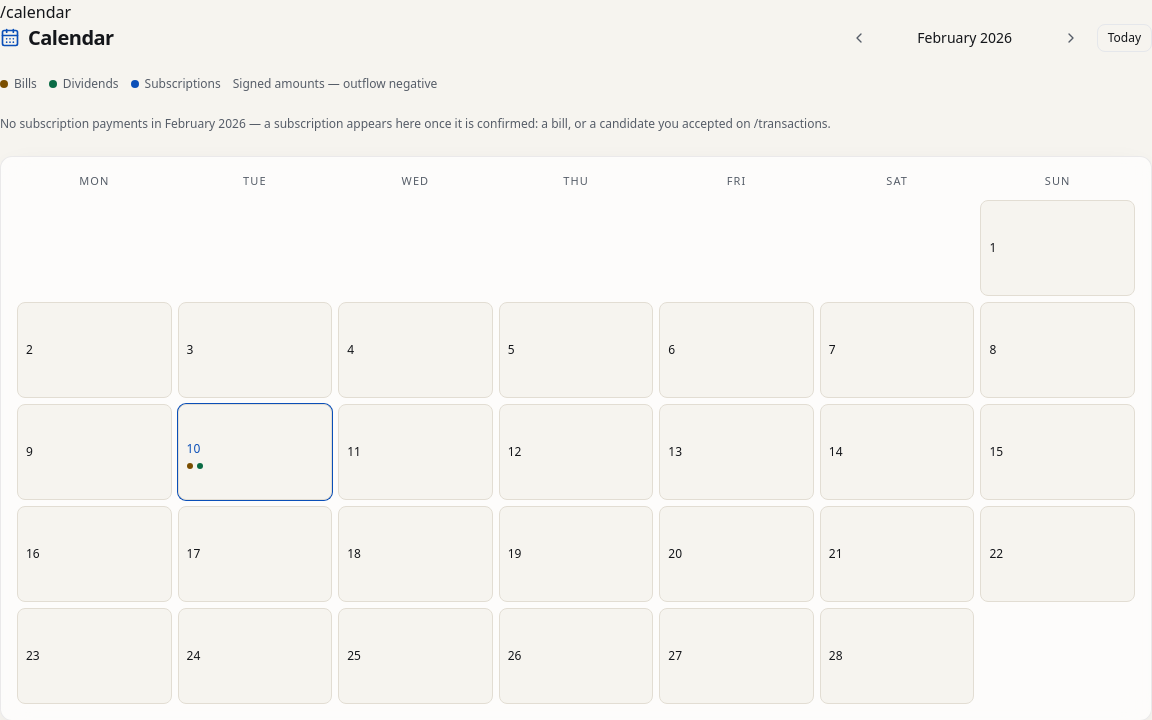
Test: M170 follow-up currency honesty › keeps the CAD bill and dividend controls in CAD
Click the button with test id "calendar-day-2026-02-10".
click(255, 452)  # box [178,404,332,500]
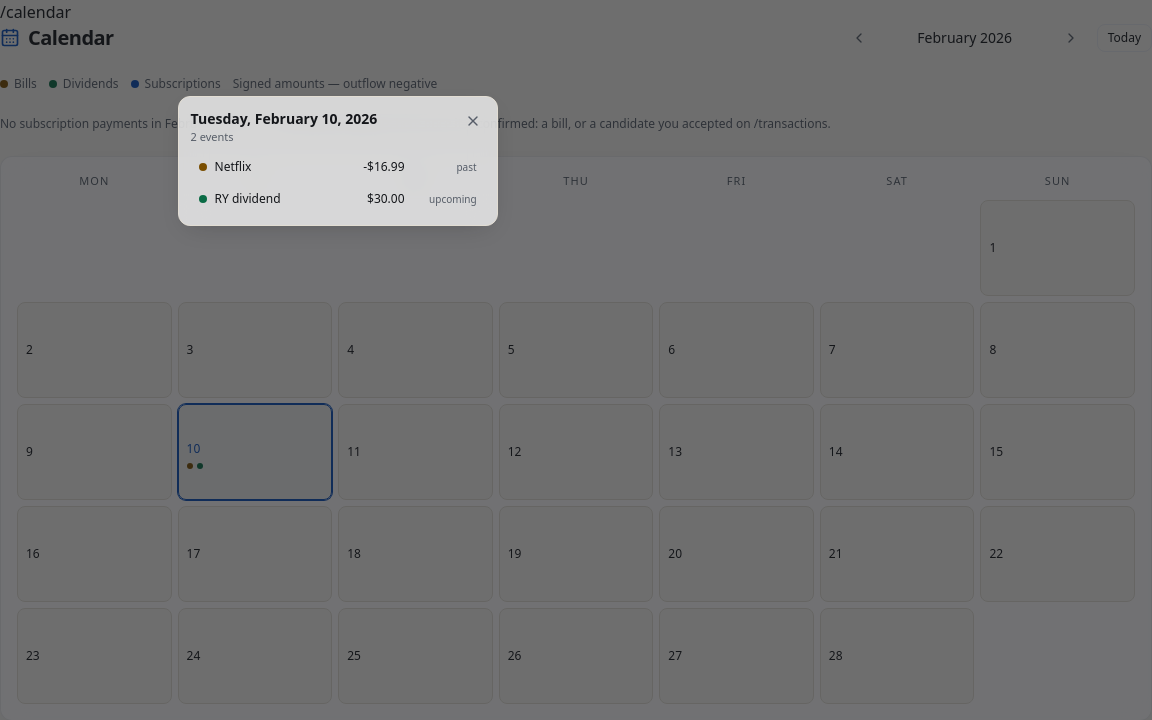
Now the text "-$16.99" is shown, box [363,159,405,175]
Now the text "$30.00" is shown, box [367,191,404,207]
